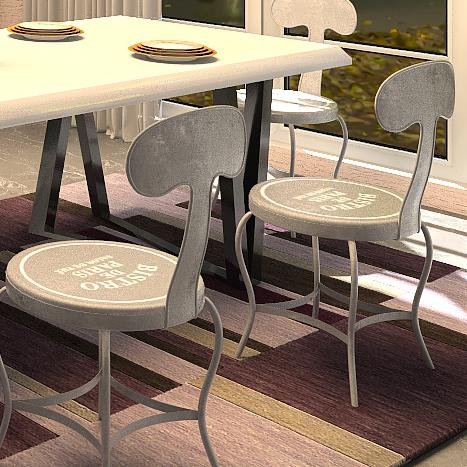table: (1, 31, 340, 296)
